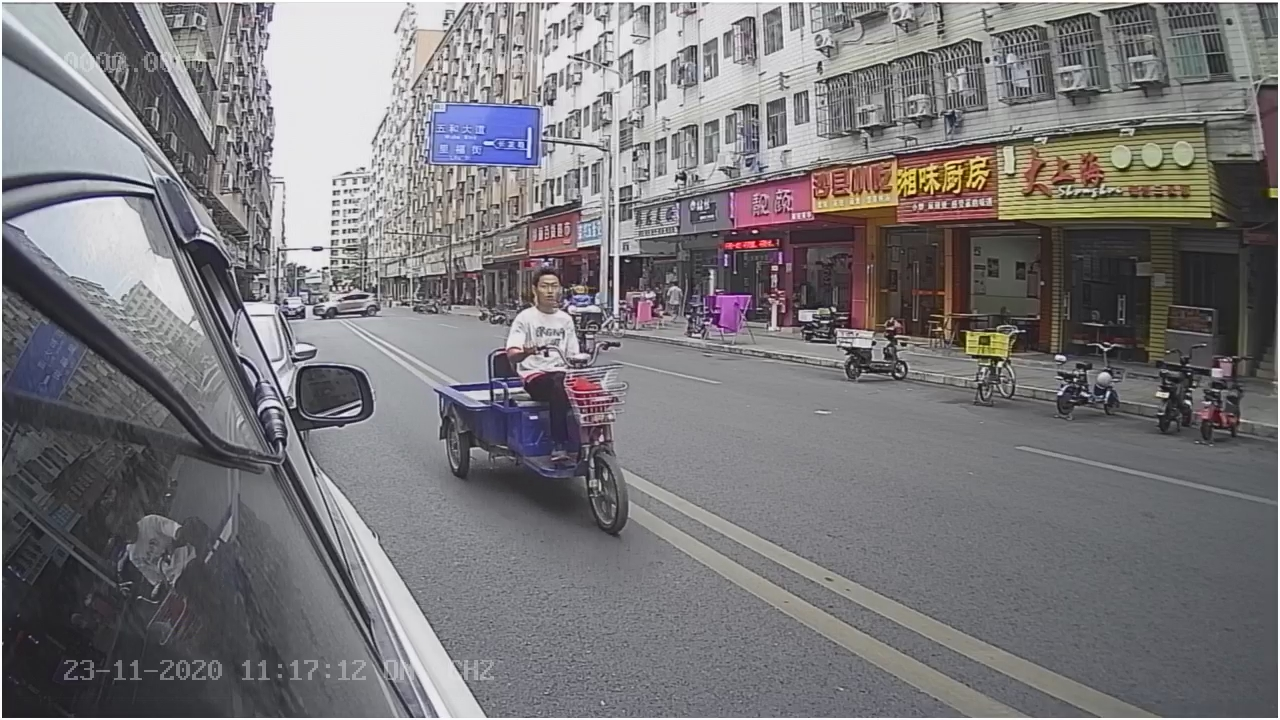person: (499, 265, 592, 344)
